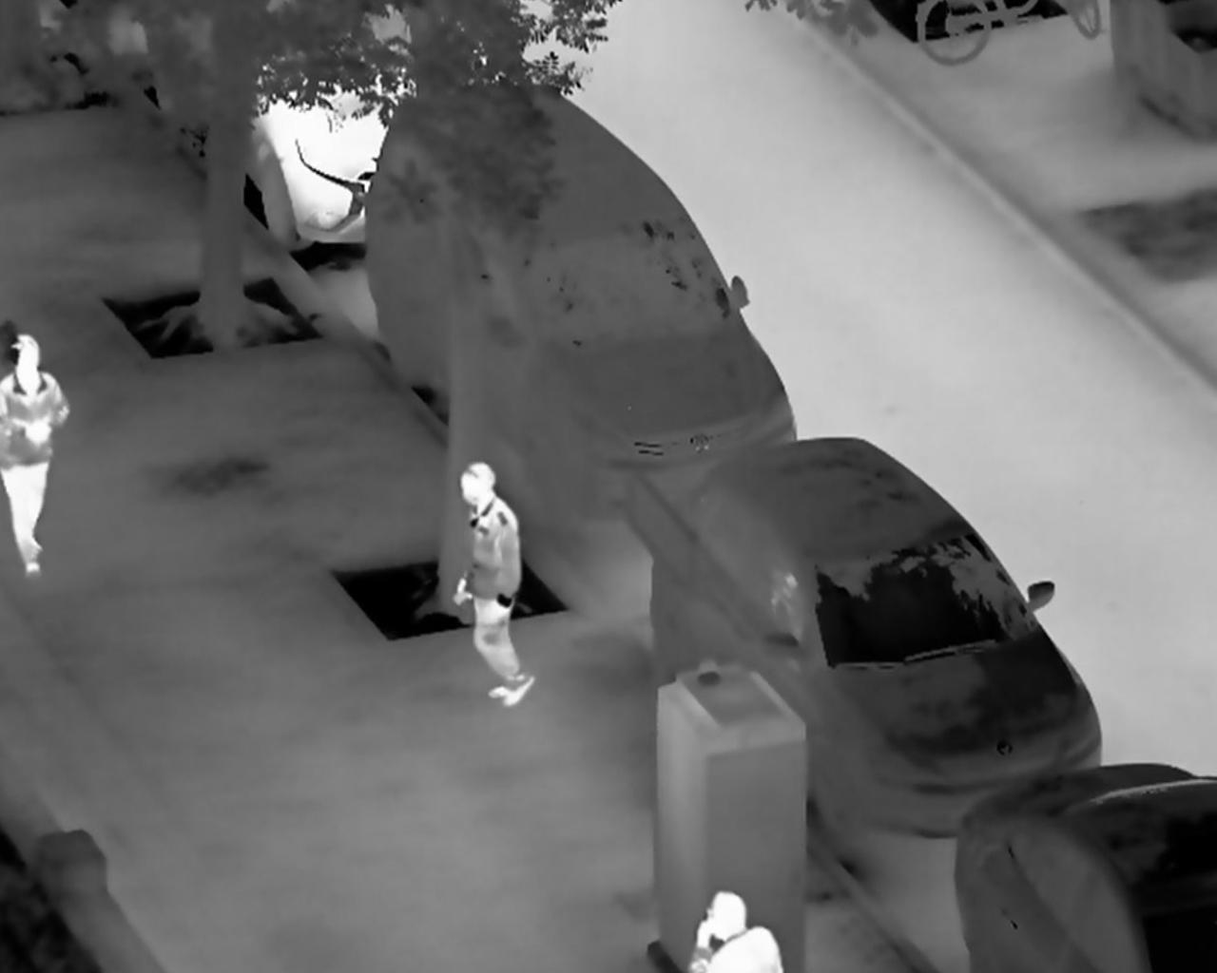person: (452, 458, 537, 710), (684, 887, 781, 973)
